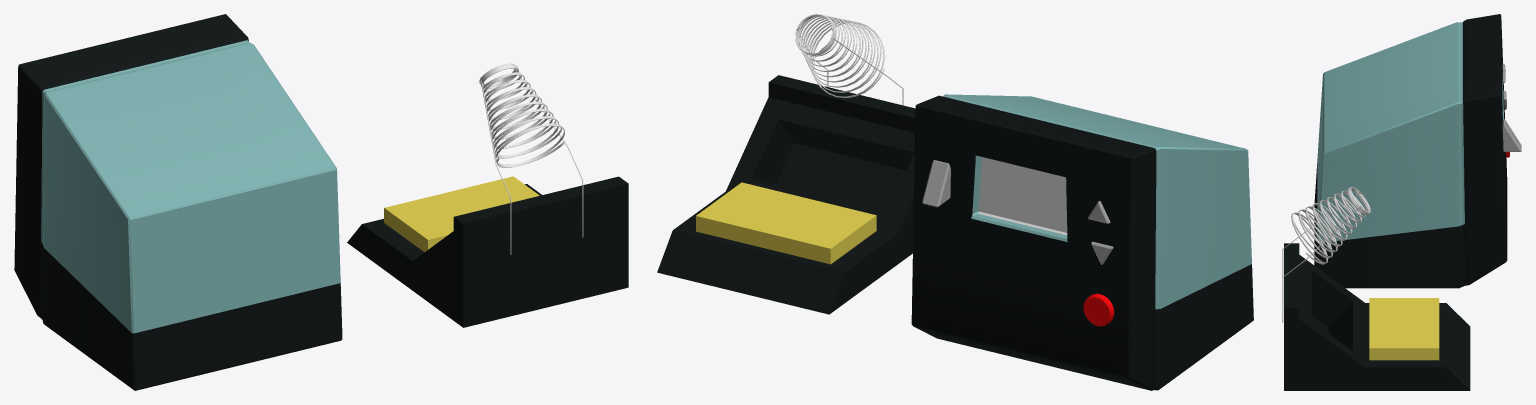
Rendered from solder_station_.fbx.
The picture shows the model from 3 angles, left to right: view 1: azimuth 30°, elevation 25°; view 2: azimuth 150°, elevation 25°; view 3: azimuth 270°, elevation 25°; orthographic projection. The views are drawn at different scales.
Parts seen in each view (by area): view 1: Cube.004, Cube.003; view 2: Cube.004, Cube.003; view 3: Cube.004, Cube.003.
Boxes of the visible parts, x1,y1,x2,y2 form: Cube.004: (14,14,342,390); Cube.003: (347,63,628,327); Cube.004: (911,94,1253,390); Cube.003: (657,14,915,314); Cube.004: (1314,14,1521,288); Cube.003: (1282,187,1470,390).
Bounding box in the file's own units: 23.6 × 11.5 × 12.88.
